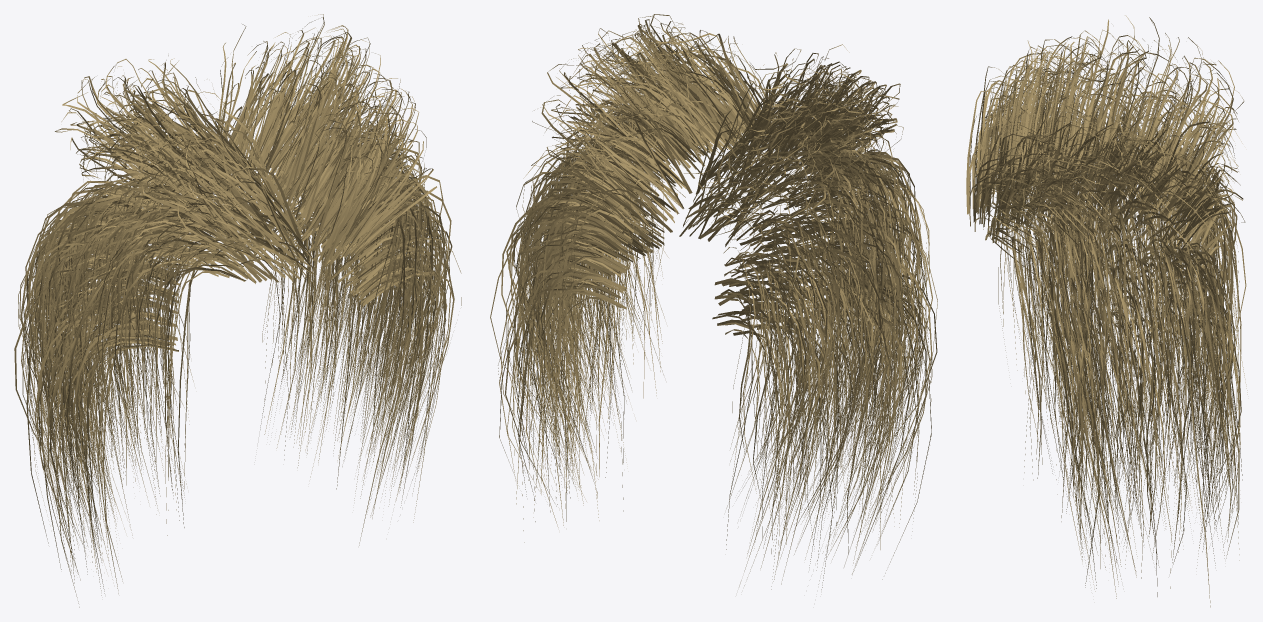
The model's file is clown-blond-hair.glb.
3 renders of one model, left to right at view 1: azimuth 30°, elevation 25°; view 2: azimuth 150°, elevation 25°; view 3: azimuth 270°, elevation 25°, orthographic. The views are drawn at different scales.
Parts seen in each view (by area): view 1: MattedBlondHair; view 2: MattedBlondHair; view 3: MattedBlondHair.
Boxes of the visible parts, box(x1,y1,x2,y2) form: MattedBlondHair: box(14, 14, 461, 607); MattedBlondHair: box(490, 14, 937, 589); MattedBlondHair: box(966, 15, 1247, 607).
Size of the model in its own units: 0.5607 by 0.6725 by 0.3564.
